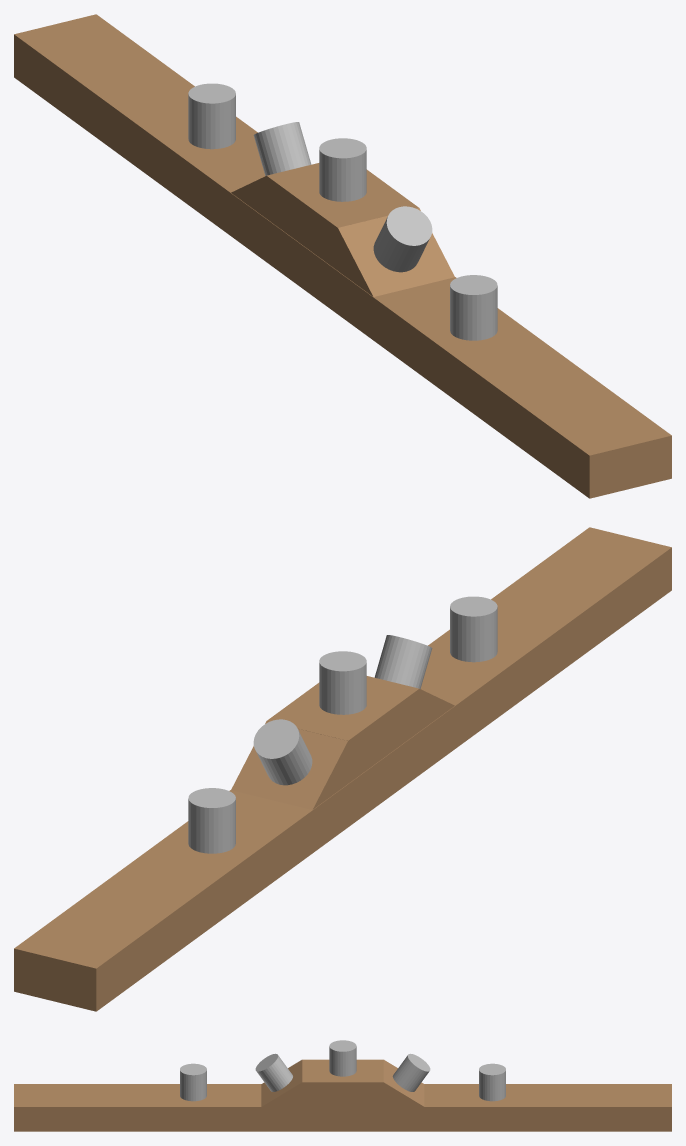
Rendered from Rails.dae.
The picture shows the model from 3 angles, top to bottom: view 1: azimuth 30°, elevation 25°; view 2: azimuth 150°, elevation 25°; view 3: azimuth 270°, elevation 25°; orthographic projection. The views are drawn at different scales.
Parts seen in each view (by area): view 1: Base, Cube.001, Cube.002, Cylinder.004, Cylinder, Cylinder.003, Cylinder.002, Cylinder.001, Cube; view 2: Base, Cube.001, Cube, Cylinder, Cylinder.004, Cylinder.003, Cylinder.001, Cylinder.002, Cube.002; view 3: Base, Cube.001, Cube.002, Cube, Cylinder.004, Cylinder, Cylinder.003, Cylinder.001, Cylinder.002.
Part boxes in pixels (left/top/right/bottom): Base: left=14, top=14, right=671, bottom=498; Cube.001: left=266, top=163, right=418, bottom=270; Cube.002: left=338, top=208, right=454, bottom=296; Cylinder.004: left=188, top=83, right=235, bottom=149; Cylinder: left=450, top=275, right=497, bottom=340; Cylinder.003: left=319, top=138, right=366, bottom=201; Cylinder.002: left=373, top=206, right=432, bottom=272; Cylinder.001: left=253, top=122, right=311, bottom=175; Cube: left=231, top=176, right=266, bottom=218; Base: left=14, top=527, right=671, bottom=1011; Cube.001: left=267, top=676, right=419, bottom=783; Cube: left=231, top=721, right=348, bottom=809; Cylinder: left=450, top=596, right=497, bottom=662; Cylinder.004: left=188, top=788, right=235, bottom=853; Cylinder.003: left=319, top=651, right=366, bottom=714; Cylinder.001: left=253, top=719, right=312, bottom=785; Cylinder.002: left=374, top=635, right=432, bottom=688; Cube.002: left=419, top=689, right=454, bottom=731; Base: left=14, top=1084, right=671, bottom=1131; Cube.001: left=302, top=1059, right=383, bottom=1106; Cube.002: left=261, top=1060, right=302, bottom=1106; Cube: left=383, top=1060, right=424, bottom=1106; Cylinder.004: left=479, top=1063, right=505, bottom=1101; Cylinder: left=180, top=1063, right=206, bottom=1101; Cylinder.003: left=329, top=1040, right=356, bottom=1076; Cylinder.001: left=392, top=1053, right=430, bottom=1091; Cylinder.002: left=255, top=1053, right=292, bottom=1091.
Bounding box in the file's own units: 0.2 × 2.42 × 0.3009.
